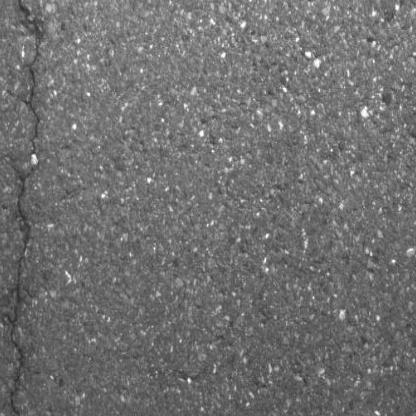Cracks: (8, 0, 44, 416)
